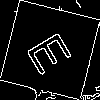E: (25, 25, 82, 77)
